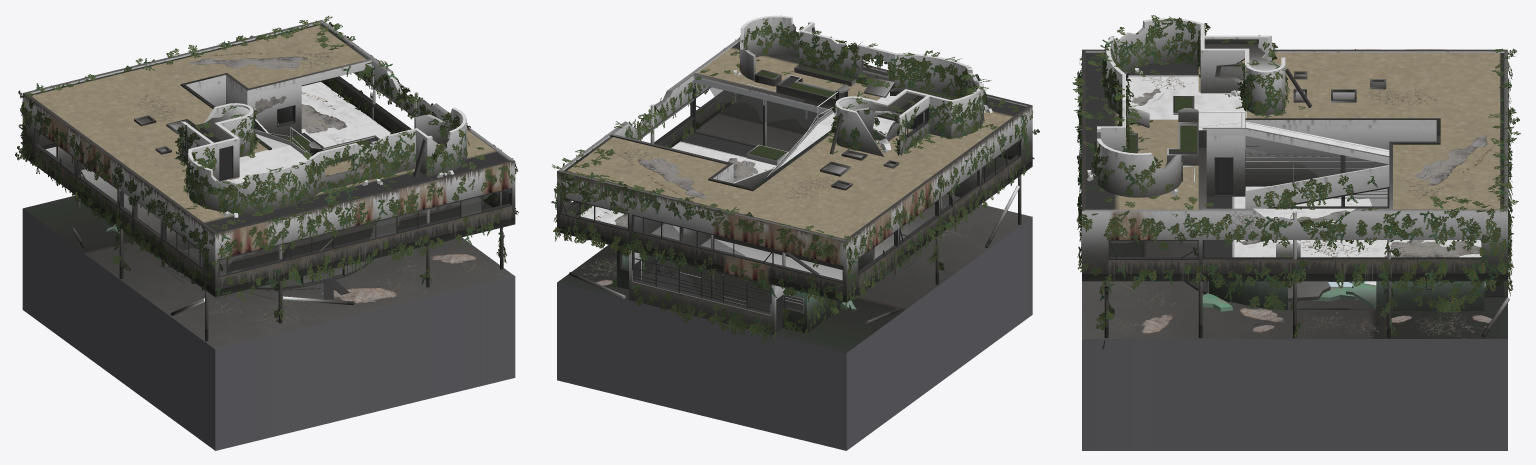
Rendered from 03_VillaSavoye_Overgrown.glb.
3 views of the same model, side by side, from view 1: azimuth 30°, elevation 25°; view 2: azimuth 150°, elevation 25°; view 3: azimuth 270°, elevation 25° (orthographic). The views are drawn at different scales.
Visible parts, largest first — view 1: VillaSavoye_overgrown_baseMesh, VillaSavoye_overgrown_plants, VillaSavoye_overgrown_decals, VillaSavoye_overgrown_Glass; view 2: VillaSavoye_overgrown_baseMesh, VillaSavoye_overgrown_plants, VillaSavoye_overgrown_decals, VillaSavoye_overgrown_Glass; view 3: VillaSavoye_overgrown_baseMesh, VillaSavoye_overgrown_plants, VillaSavoye_overgrown_decals, VillaSavoye_overgrown_Glass.
Boxes of the visible parts, x1,y1,x2,y2 form: VillaSavoye_overgrown_baseMesh: (22,20,515,450); VillaSavoye_overgrown_plants: (15,16,518,321); VillaSavoye_overgrown_decals: (22,48,515,327); VillaSavoye_overgrown_Glass: (219,189,511,287); VillaSavoye_overgrown_baseMesh: (557,15,1032,450); VillaSavoye_overgrown_plants: (551,19,1039,341); VillaSavoye_overgrown_decals: (557,106,1032,322); VillaSavoye_overgrown_Glass: (561,86,824,298); VillaSavoye_overgrown_baseMesh: (1081,18,1509,450); VillaSavoye_overgrown_plants: (1072,15,1520,348); VillaSavoye_overgrown_decals: (1102,49,1493,338); VillaSavoye_overgrown_Glass: (1109,136,1430,292).
Bounding box in the file's own units: 15.11 × 11.73 × 16.74.
Materials: 5 (4 with a texture image).
